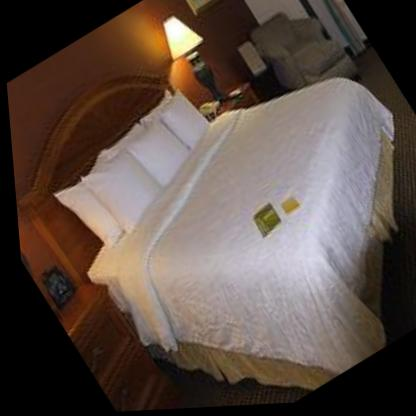Bed: (0, 0, 416, 416)
Chair: (239, 0, 360, 117)
